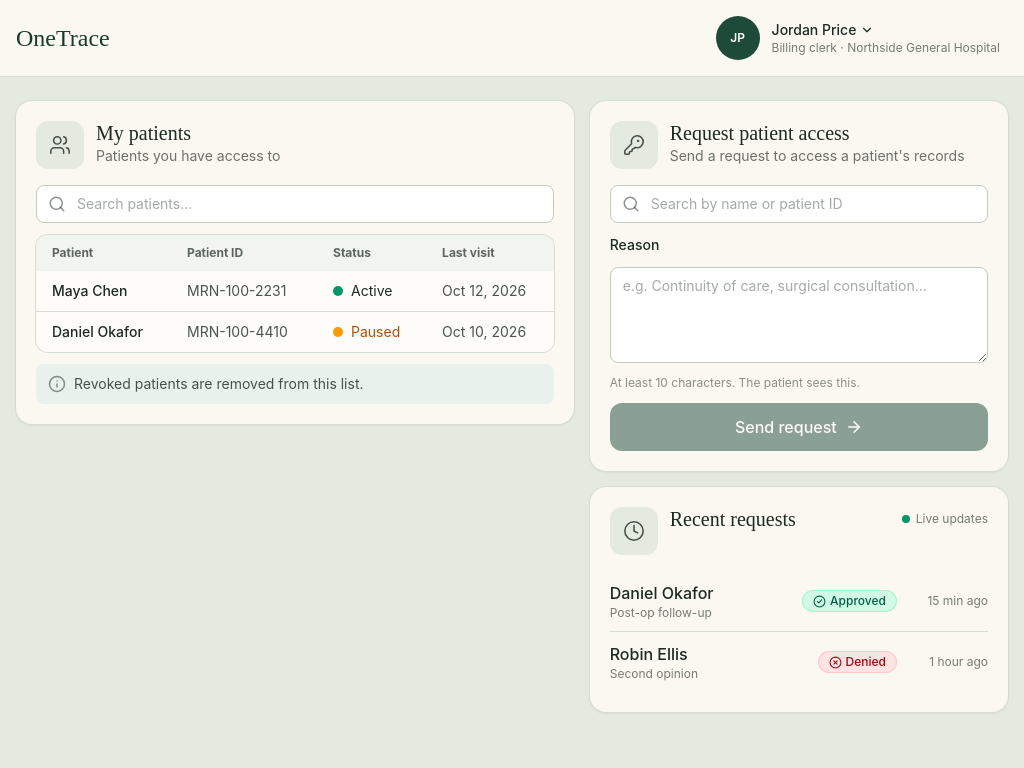
Test: Hospital workspace: my patients & requests (mockup page 3, screen 2) › a billing clerk never sees the emergency button or the ER note
Expected: the heading "Request patient access" is shown, left=670, top=122, right=850, bottom=144
Type "Rob" into the search field with placeholder "Search by name or patient ID".
click(799, 204); type("Rob")  # box left=610, top=185, right=988, bottom=223
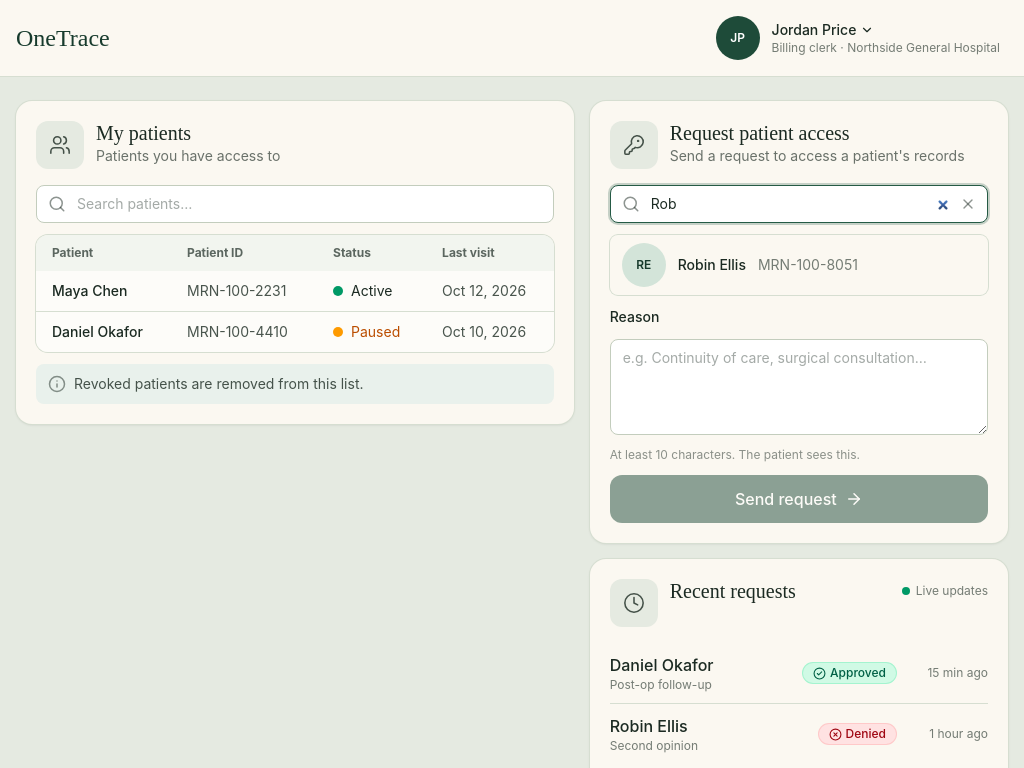
Click the button "RE Robin Ellis MRN-100-8051".
click(799, 265)  # box left=610, top=235, right=988, bottom=295
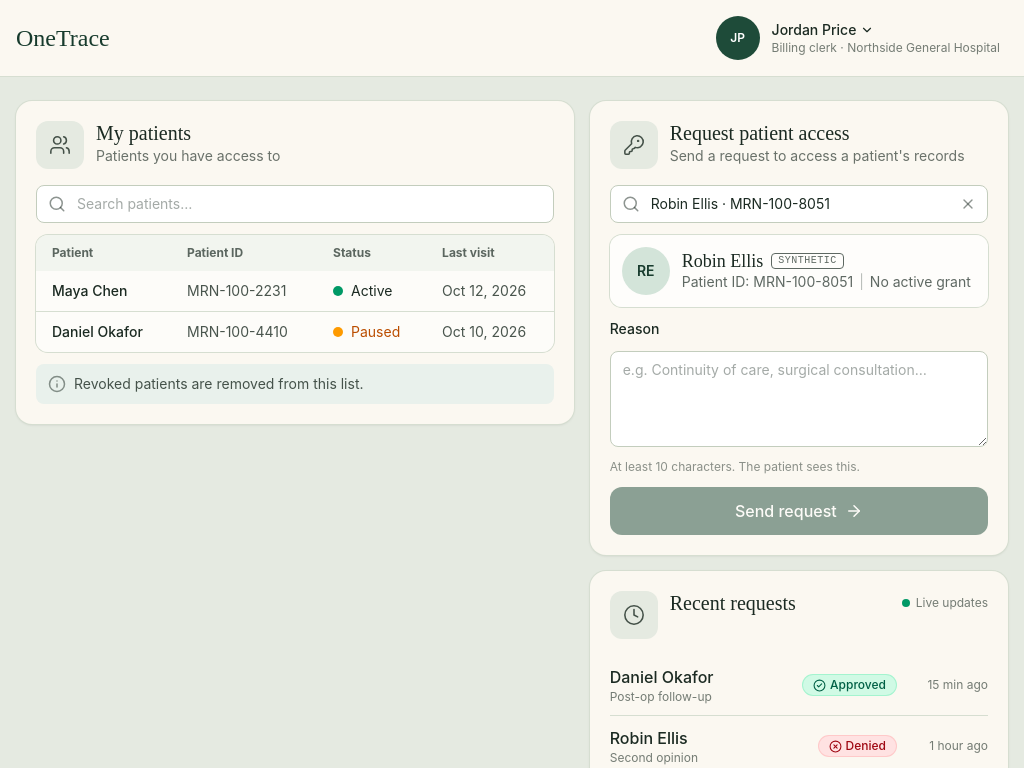
Now the text "Patient ID: MRN-100-8051|No active grant" is shown, box left=682, top=272, right=976, bottom=292
